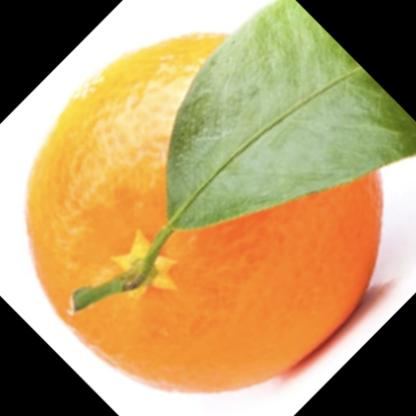fresh: (26, 30, 383, 393)
